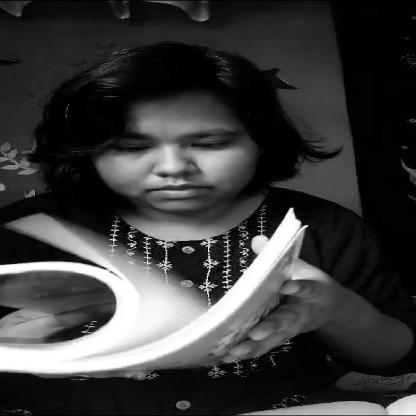Normal: (80, 77, 274, 209)
